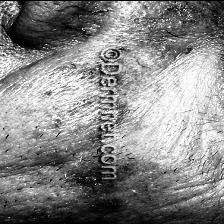Non-Cancerous Skin Condition: (1, 34, 95, 224), (132, 0, 224, 182)
